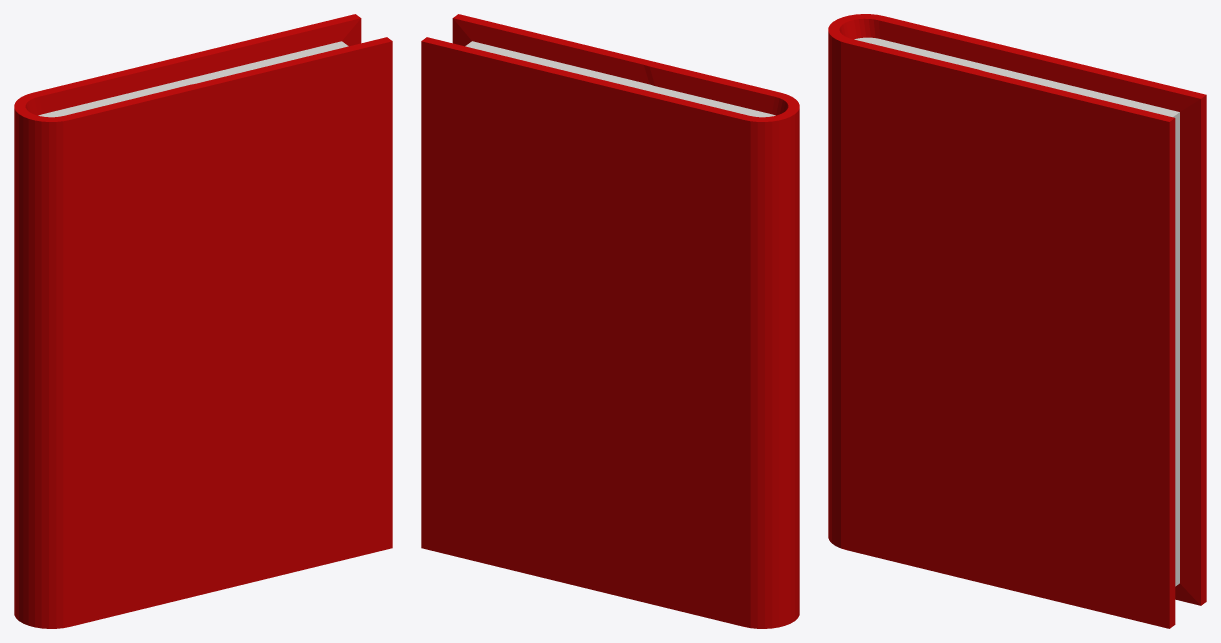
File: Book1.fbx
The picture shows the model from 3 angles, left to right: view 1: azimuth 30°, elevation 25°; view 2: azimuth 150°, elevation 25°; view 3: azimuth 330°, elevation 25°; orthographic projection.
Visible parts, largest first — view 1: Cylinder; view 2: Cylinder; view 3: Cylinder.
Boxes of the visible parts, left/top/right/bottom form: Cylinder: left=14, top=14, right=392, bottom=628; Cylinder: left=421, top=14, right=799, bottom=628; Cylinder: left=828, top=14, right=1206, bottom=628.
Bounding box in the file's own units: 1101 × 1503 × 200.
